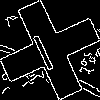I: (25, 25, 57, 72)
